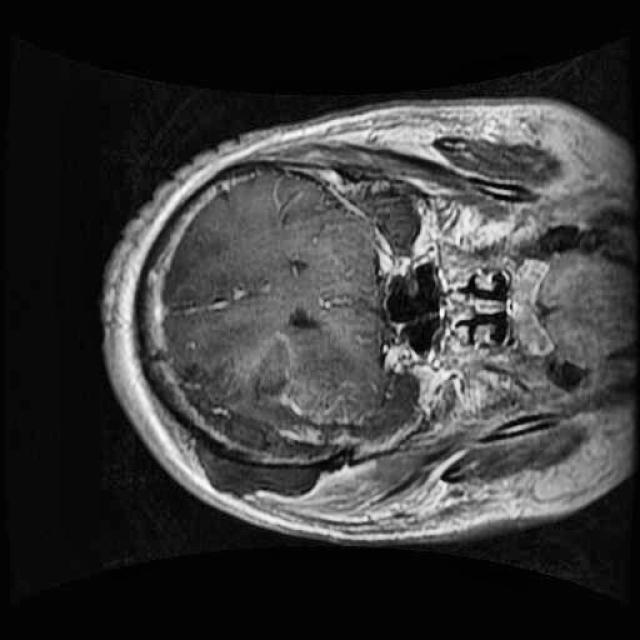Non-Tumor: (165, 356, 355, 474)
